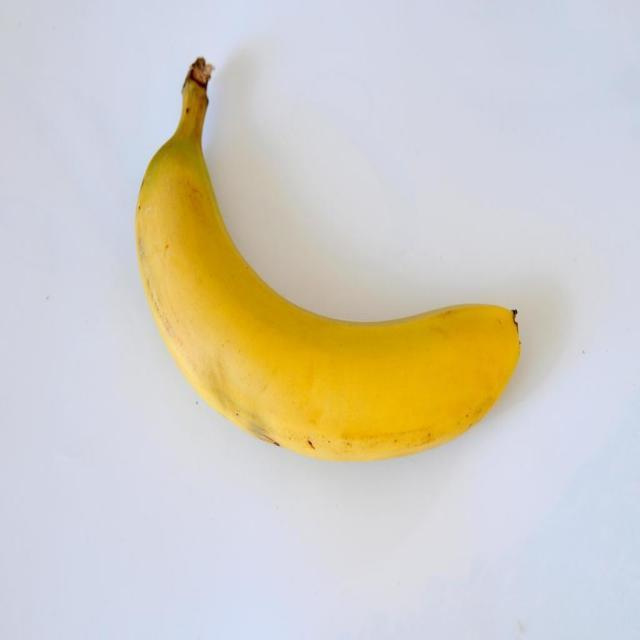Banana: (138, 54, 524, 462)
